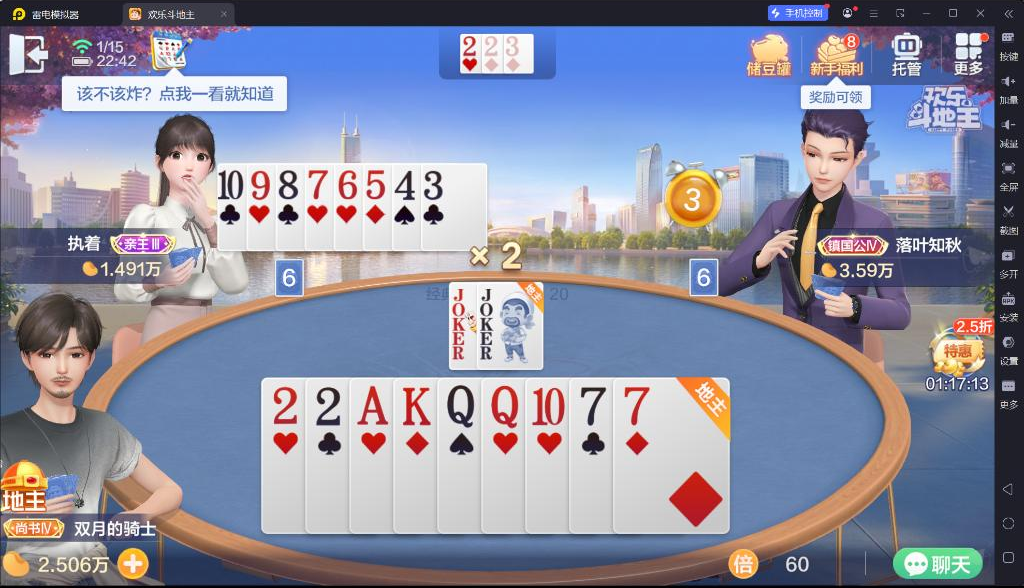A: (356, 383, 391, 428)
JOKER: (451, 285, 469, 336)
K: (399, 381, 433, 427)
Q: (488, 382, 522, 428), (444, 382, 477, 429)
eight: (277, 167, 302, 201)
five: (365, 167, 388, 201)
four: (393, 168, 418, 203)
joker: (479, 286, 495, 334)
nine: (249, 167, 271, 201)
seven: (618, 384, 652, 427), (577, 384, 607, 427), (307, 166, 331, 199)
six: (336, 168, 358, 200)
ten: (531, 382, 565, 428), (218, 169, 245, 201)
three: (422, 169, 445, 201), (504, 35, 520, 57)
two: (311, 383, 345, 428), (269, 383, 303, 427), (461, 36, 479, 58), (483, 35, 500, 58)
